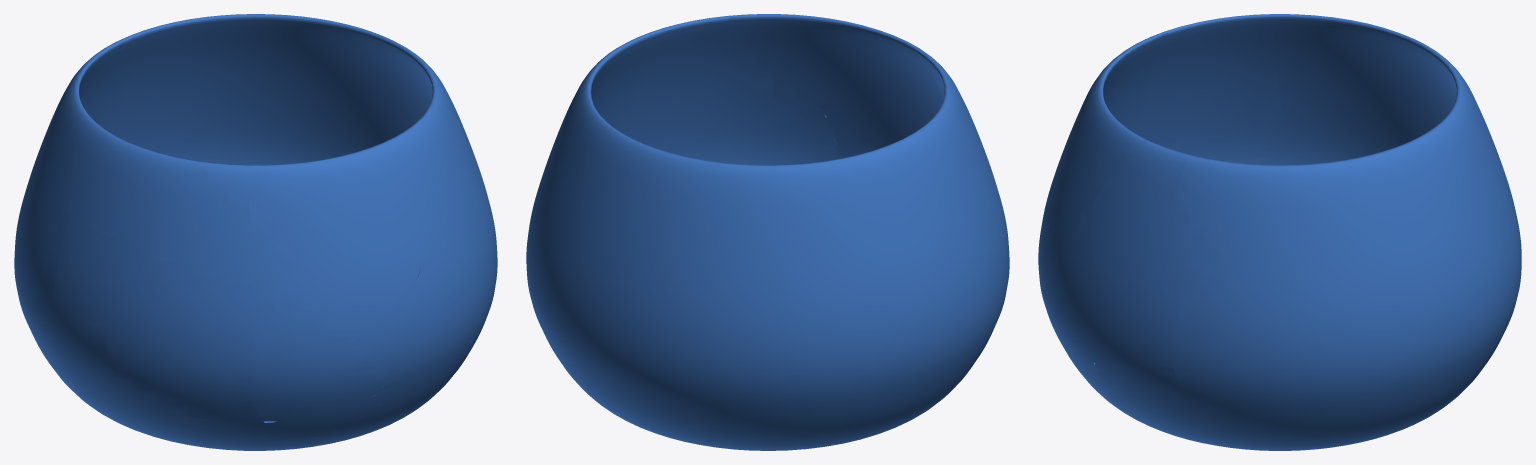
The model's file is BrokenBowl.fbx.
3 renders of one model, left to right at view 1: azimuth 30°, elevation 25°; view 2: azimuth 150°, elevation 25°; view 3: azimuth 270°, elevation 25°, orthographic.
Visible parts, largest first — view 1: Object_3, Object_3.011, Object_3.009, Object_3.010, Object_3.003, Object_3.005, Object_3.006, Object_3.004, Object_3.002, Object_3.008; view 2: Object_3, Object_3.009, Object_3.011, Object_3.004, Object_3.003, Object_3.005; view 3: Object_3, Object_3.009, Object_3.011, Object_3.007, Object_3.004, Object_3.005, Object_3.008.
Part boxes in pixels (box(x1,y1,x2,y2)): Object_3: box(14, 14, 486, 450); Object_3.011: box(249, 113, 442, 344); Object_3.009: box(394, 86, 497, 387); Object_3.010: box(243, 295, 382, 421); Object_3.003: box(349, 276, 418, 387); Object_3.005: box(196, 160, 262, 215); Object_3.006: box(274, 395, 378, 437); Object_3.004: box(414, 216, 446, 318); Object_3.002: box(321, 395, 408, 436); Object_3.008: box(400, 343, 470, 403); Object_3: box(526, 25, 1009, 450); Object_3.009: box(596, 15, 840, 165); Object_3.011: box(731, 14, 941, 149); Object_3.004: box(772, 77, 838, 150); Object_3.003: box(825, 117, 875, 158); Object_3.005: box(920, 50, 949, 95); Object_3: box(1077, 14, 1521, 450); Object_3.009: box(1042, 140, 1221, 367); Object_3.011: box(1040, 53, 1147, 236); Object_3.007: box(1095, 362, 1186, 410); Object_3.004: box(1044, 208, 1084, 262); Object_3.005: box(1113, 32, 1165, 90); Object_3.008: box(1056, 333, 1113, 390).
Bounding box in the file's own units: 939 × 645 × 939.
